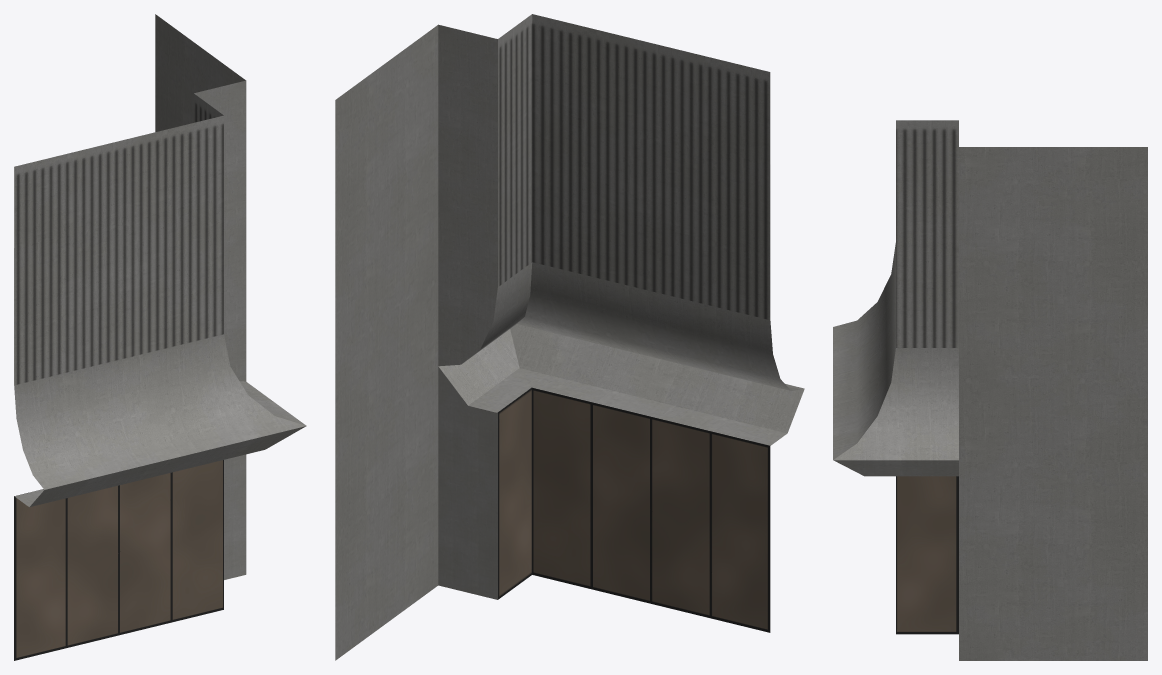
The model's file is right_edge.gltf.
The picture shows the model from 3 angles, left to right: view 1: azimuth 30°, elevation 25°; view 2: azimuth 150°, elevation 25°; view 3: azimuth 270°, elevation 25°; orthographic projection. The views are drawn at different scales.
Visible parts, largest first — view 1: right_edge; view 2: right_edge; view 3: right_edge.
Part boxes in pixels (x1=…): right_edge: x1=14, y1=14, x2=306, y2=660; right_edge: x1=335, y1=14, x2=804, y2=660; right_edge: x1=833, y1=120, x2=1147, y2=660.
Bounding box in the file's own units: 5 × 9 × 5.
3 materials, 3 textured.
